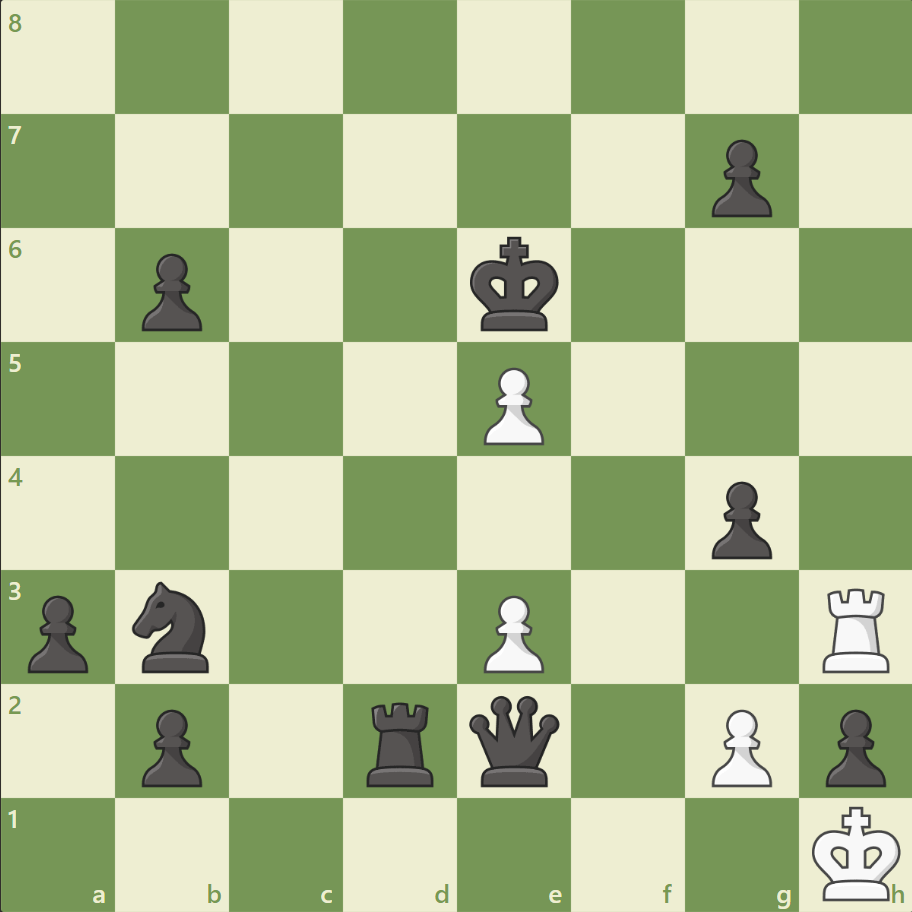K: (806, 798, 906, 906)
P: (474, 359, 549, 450), (474, 586, 549, 677), (701, 700, 776, 791)
R: (814, 579, 897, 676)
k: (465, 231, 565, 339)
n: (124, 575, 222, 677)
p: (701, 132, 776, 223), (133, 246, 208, 337), (701, 473, 776, 564), (20, 586, 95, 677), (133, 700, 208, 791), (815, 700, 889, 791)
q: (464, 690, 563, 789)
r: (360, 693, 442, 790)
